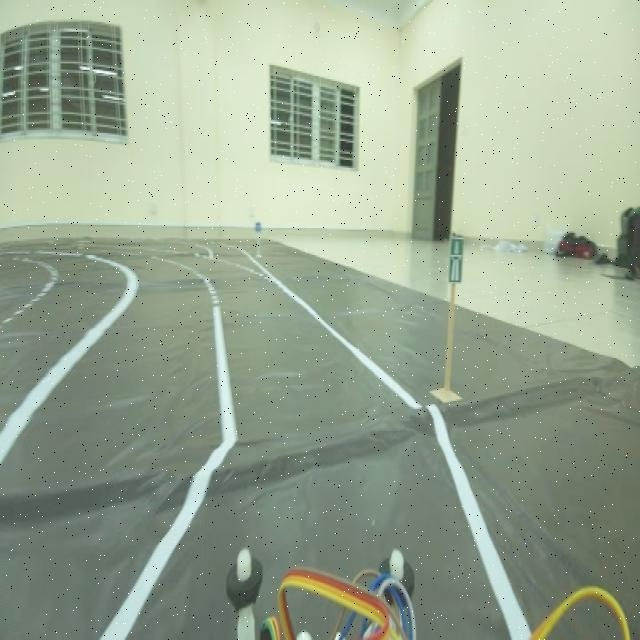highway_entry: (445, 231, 471, 295)
